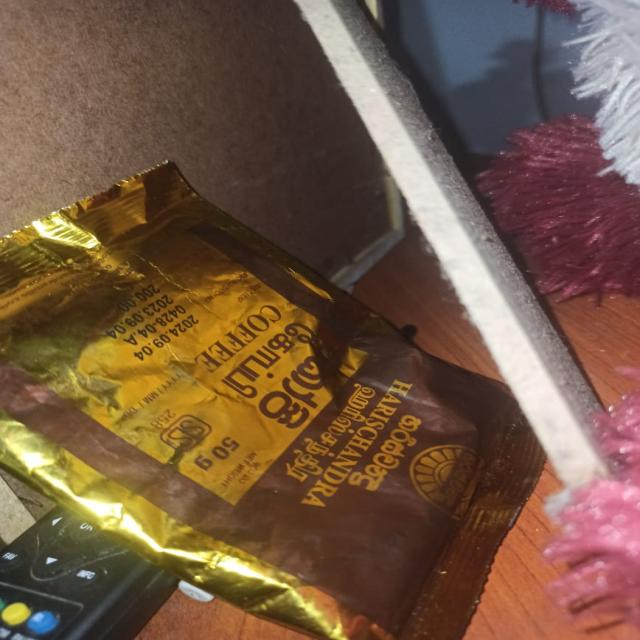Harischandra Coffee: (0, 198, 582, 612)
